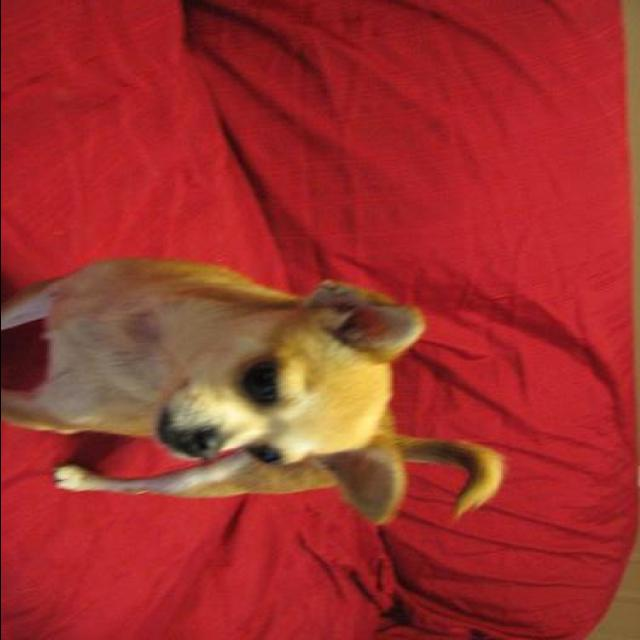chihuahua: (3, 256, 507, 531)
